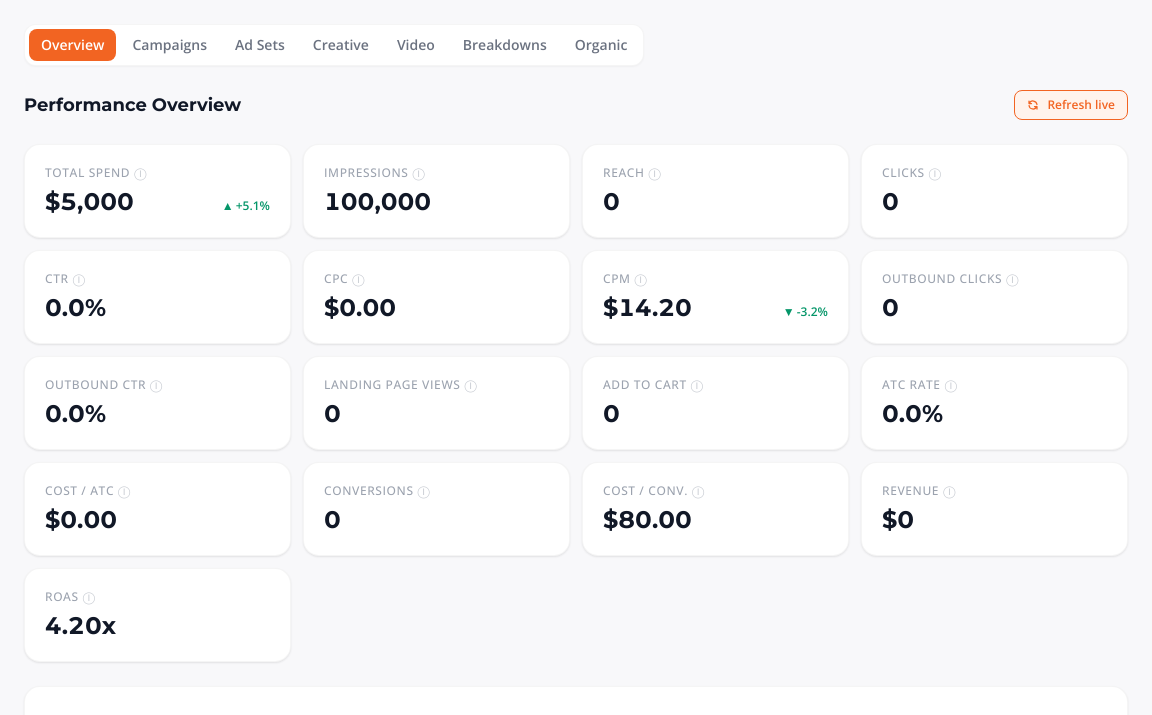
Organic sub-tab renders IG KPIs and snapshot label
Click the tab "Organic" at (601, 45), box [563,29,639,61]
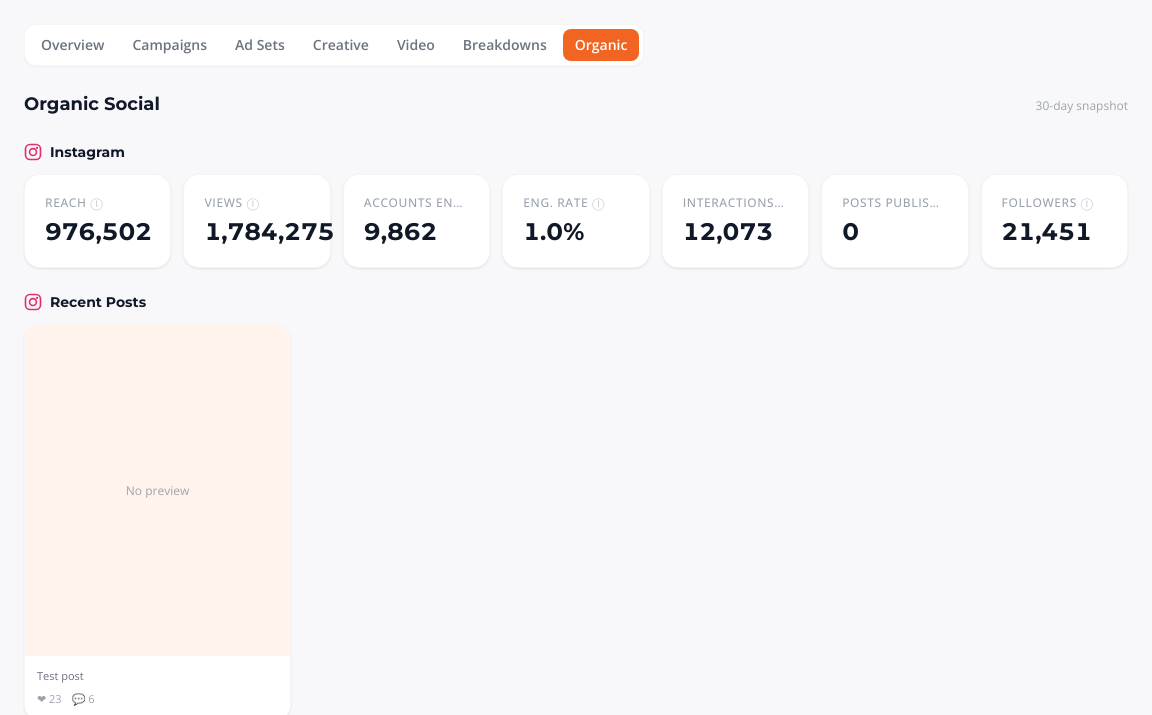
Check: the heading "Instagram" is shown, box [24,143,125,161]
Check: the text "30-day snapshot" is shown, box [1036,98,1128,114]
